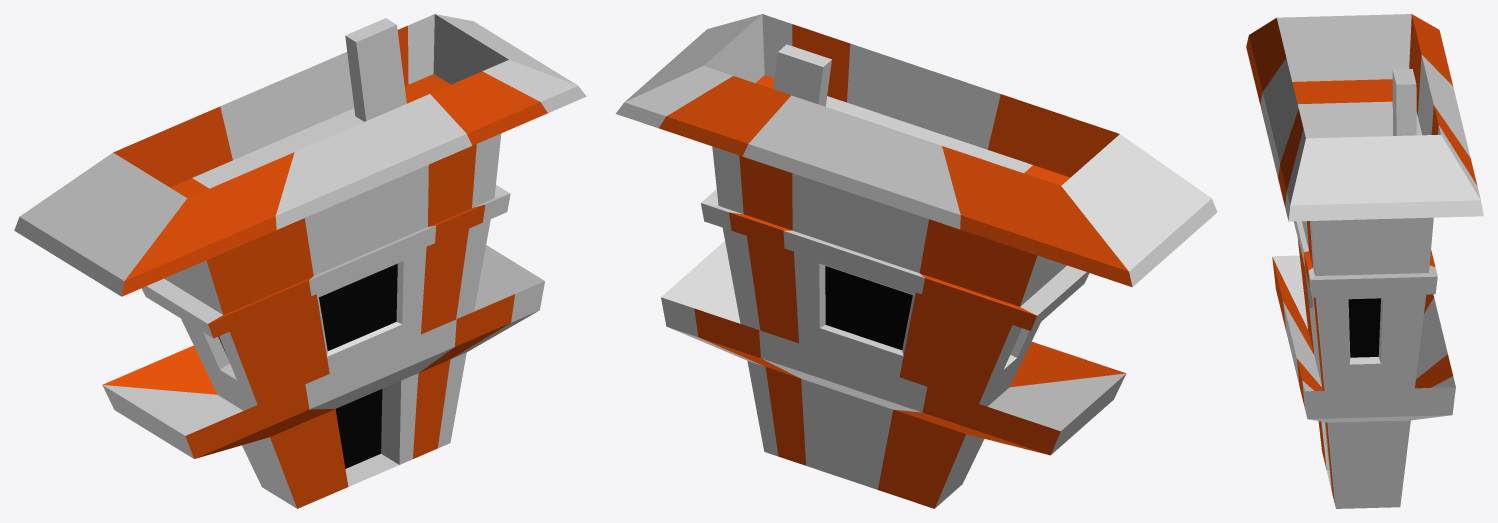
The model's file is buildonk.fbx.
The picture shows the model from 3 angles, left to right: view 1: azimuth 30°, elevation 25°; view 2: azimuth 150°, elevation 25°; view 3: azimuth 270°, elevation 25°; orthographic projection. The views are drawn at different scales.
Parts seen in each view (by area): view 1: Cube; view 2: Cube; view 3: Cube.
Part boxes in pixels (bbox=[...]): Cube: bbox=[14, 14, 586, 508]; Cube: bbox=[615, 14, 1217, 508]; Cube: bbox=[1246, 14, 1483, 508].
Bounding box in the file's own units: 2748 × 2240 × 1109.
